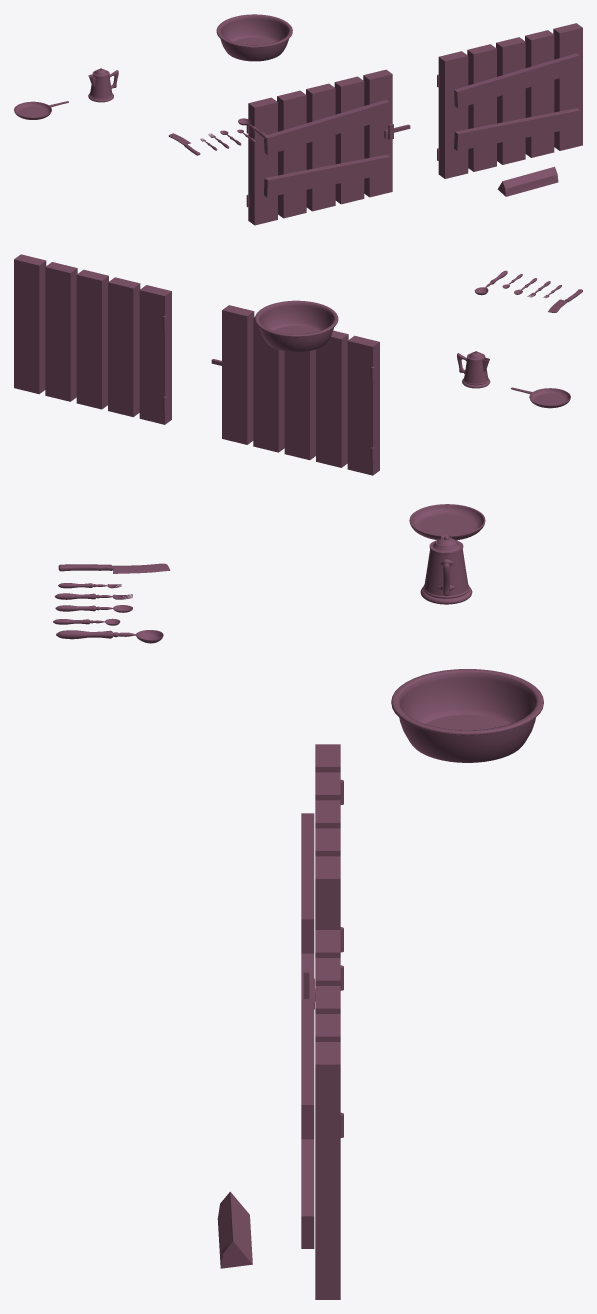
The model's file is props_3.fbx.
The picture shows the model from 3 angles, top to bottom: view 1: azimuth 30°, elevation 25°; view 2: azimuth 150°, elevation 25°; view 3: azimuth 270°, elevation 25°; orthographic projection. The views are drawn at different scales.
Visible parts, largest first — view 1: kalitka_low, kalitka2_low1, pelvis_low, kettle_low, firewood_high, frying_pan, firewood_low; view 2: kalitka2_low1, kalitka_low, pelvis_low, kettle_low, frying_pan; view 3: kalitka2_low1, pelvis_low, kalitka_low, kettle_low, frying_pan, firewood_high.
Part boxes in pixels (x1,y1,x2,y2): kalitka_low: (246, 69, 410, 225); kalitka2_low1: (437, 23, 582, 178); pelvis_low: (216, 14, 292, 61); kettle_low: (88, 68, 118, 102); firewood_high: (503, 168, 557, 193); frying_pan: (14, 101, 68, 119); firewood_low: (497, 166, 558, 196); kalitka2_low1: (14, 254, 171, 424); kalitka_low: (211, 305, 379, 475); pelvis_low: (255, 300, 338, 352); kettle_low: (457, 351, 490, 388); frying_pan: (511, 387, 570, 408); kalitka2_low1: (301, 930, 343, 1299); pelvis_low: (391, 669, 543, 762); kalitka_low: (301, 744, 343, 1009); kettle_low: (420, 535, 472, 604); frying_pan: (409, 504, 485, 540); firewood_high: (218, 1192, 252, 1268).
Bounding box in the file's own units: 483 × 149 × 193.
